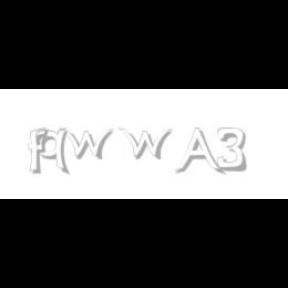3: (218, 128, 248, 172)
A: (174, 128, 222, 176)
f: (28, 128, 52, 174)
q: (35, 128, 71, 176)
w: (60, 128, 119, 160), (117, 128, 176, 160)
